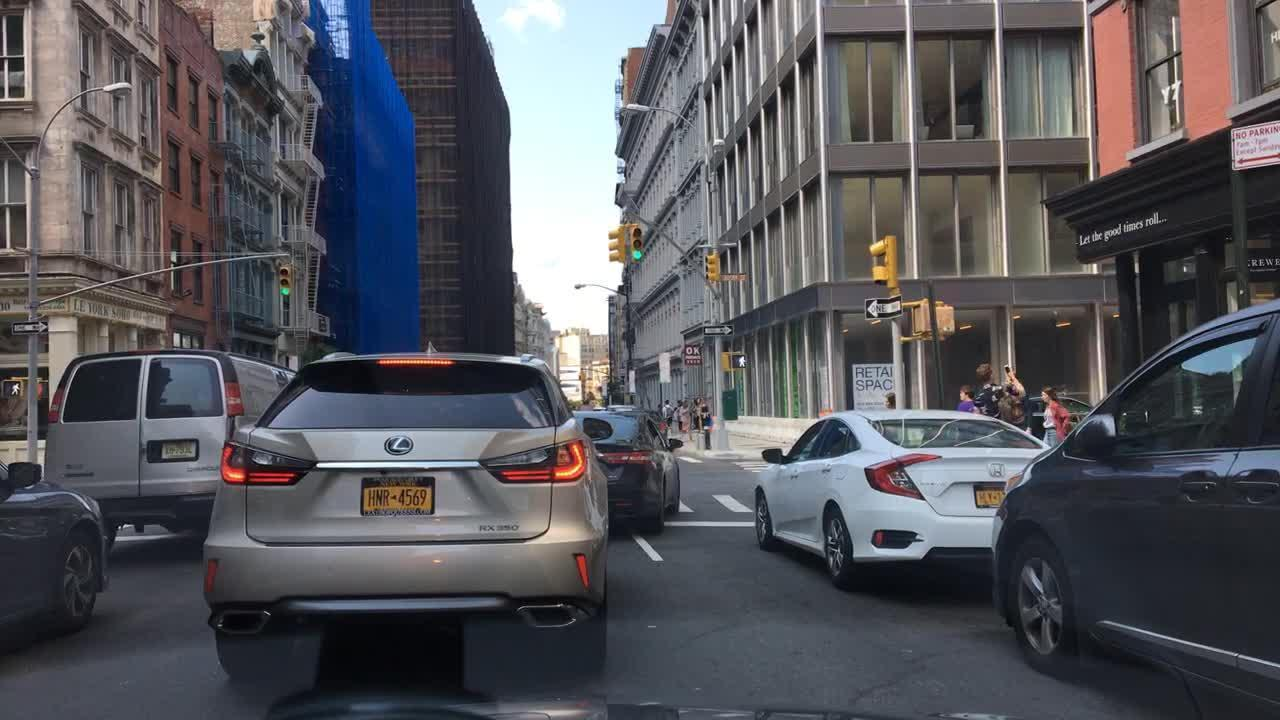Honda: (985, 460, 1008, 482)
lexus: (372, 430, 421, 464)
